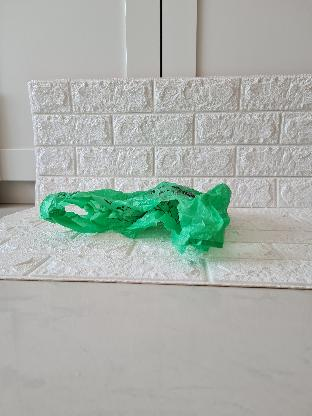Plastic Bag: (41, 180, 237, 250)
